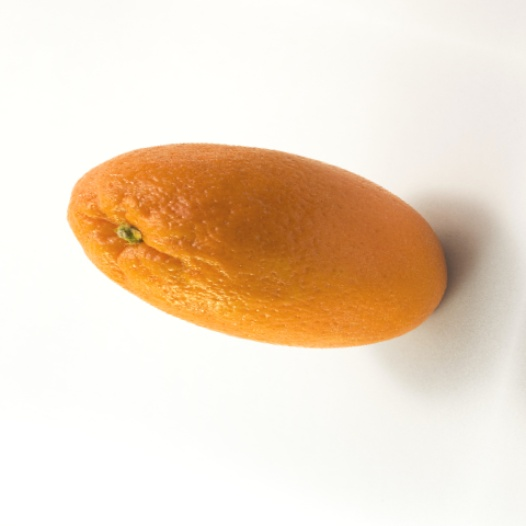orange: (0, 44, 526, 425)
